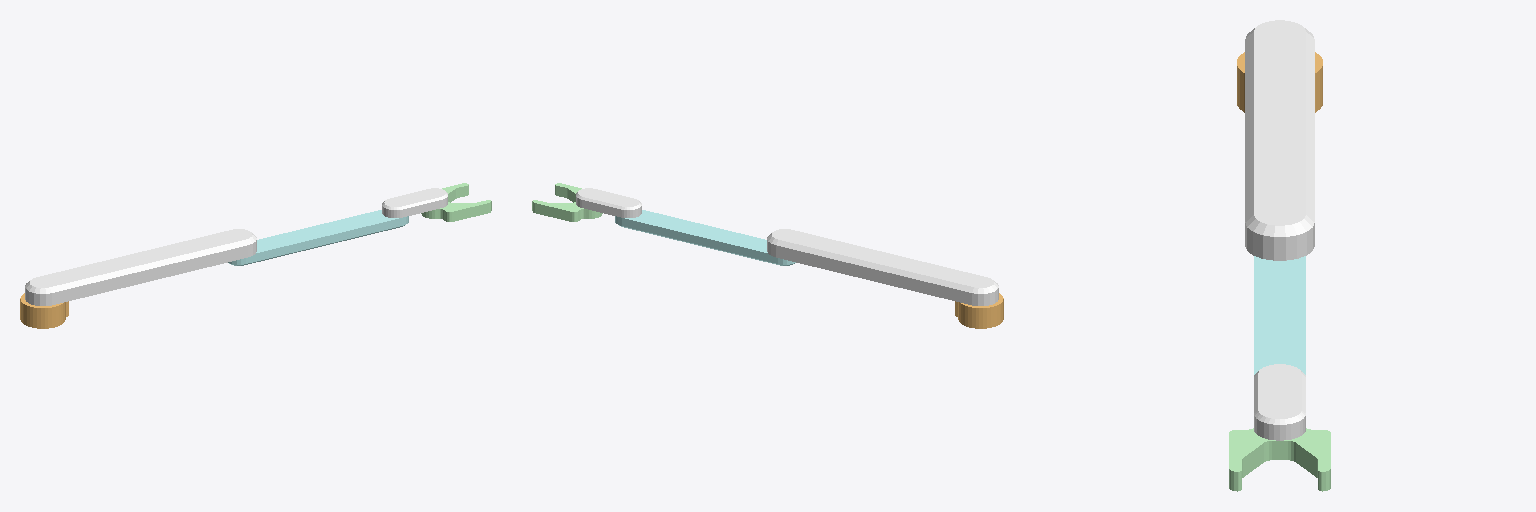
robot.urdf — planar_robot:
<?xml version="1.0" encoding="utf-8"?>
<!-- This URDF was automatically created by SolidWorks to URDF Exporter! Originally created by [author] ([email redacted]) 
     Commit Version: 1.6.0-4-g7f85cfe  Build Version: 1.6.7995.38578
     For more information, please see http://wiki.ros.org/sw_urdf_exporter -->
<robot
  name="planar_robot">
  <link name="dummy_link"/>
  <joint name="joint_dummy" type="fixed">
    <parent link="dummy_link" />
    <child link="base_link" />
  </joint>
  <link
    name="base_link">
    <inertial>
      <origin
        xyz="0.0016724 -0.025 3.5912E-19"
        rpy="0 0 0" />
      <mass
        value="0.40539" />
      <inertia
        ixx="0.00033091"
        ixy="5.152E-21"
        ixz="-6.8519E-21"
        iyy="0.00052707"
        iyz="-7.2766E-22"
        izz="0.00036507" />
    </inertial>
    <visual>
      <origin
        xyz="0 0 0"
        rpy="0 0 0" />
      <geometry>
        <mesh
          filename="package://planar_robot/meshes/base_link.STL" />
      </geometry>
      <material
        name="">
        <color
          rgba="1 0.8 0.5 1" />
      </material>
    </visual>
    <collision>
      <origin
        xyz="0 0 0"
        rpy="0 0 0" />
      <geometry>
        <mesh
          filename="package://planar_robot/meshes/base_link.STL" />
      </geometry>
    </collision>
  </link>
  <link
    name="link_1">
    <inertial>
      <origin
        xyz="0.25 0.019411 -6.9389E-17"
        rpy="0 0 0" />
      <mass
        value="1.7395" />
      <inertia
        ixx="0.0010806"
        ixy="1.6333E-19"
        ixz="9.1886E-18"
        iyy="0.046641"
        iyz="8.3906E-21"
        izz="0.046004" />
    </inertial>
    <visual>
      <origin
        xyz="0 0 0"
        rpy="1.5707963267948966 0 0" />
      <geometry>
        <mesh
          filename="package://planar_robot/meshes/link_1.STL" />
      </geometry>
      <material
        name="">
        <color
          rgba="1 1 1 1" />
      </material>
    </visual>
    <collision>
      <origin
        xyz="0 0 0"
        rpy="1.5707963267948966 0 0" />
      <geometry>
        <mesh
          filename="package://planar_robot/meshes/link_1.STL" />
      </geometry>
    </collision>
  </link>
  <joint
    name="joint_1"
    type="continuous">
    <origin
      xyz="0 0 0"
      rpy="0 0 0" />
    <parent
      link="base_link" />
    <child
      link="link_1" />
    <axis
      xyz="0 0 1" />
    <limit
      lower="-6.28"
      upper="6.28"
      effort="0"
      velocity="0" />
  </joint>
  <link
    name="link_2">
    <inertial>
      <origin
        xyz="0.2 0.012299 -1.6653E-16"
        rpy="0 0 0" />
      <mass
        value="0.65846" />
      <inertia
        ixx="0.00022042"
        ixy="7.022E-20"
        ixz="1.1791E-17"
        iyy="0.011151"
        iyz="7.0855E-21"
        izz="0.010997" />
    </inertial>
    <visual>
      <origin
        xyz="0 0 0"
        rpy="-1.5707963267948966 0 0" />
      <geometry>
        <mesh
          filename="package://planar_robot/meshes/link_2.STL" />
      </geometry>
      <material
        name="">
        <color
          rgba="0.8 1 1 1" />
      </material>
    </visual>
    <collision>
      <origin
        xyz="0 0 0"
        rpy="-1.5707963267948966 0 0" />
      <geometry>
        <mesh
          filename="package://planar_robot/meshes/link_2.STL" />
      </geometry>
    </collision>
  </link>
  <joint
    name="joint_2"
    type="continuous">
    <origin
      xyz="0.5 0 0"
      rpy="0 0 0" />
    <parent
      link="link_1" />
    <child
      link="link_2" />
    <axis
      xyz="0 0 1" />
    <limit
      lower="-6.28"
      upper="6.28"
      effort="0"
      velocity="0" />
  </joint>
  <link
    name="link_3">
    <inertial>
      <origin
        xyz="0.05 -0.012263 0"
        rpy="0 0 0" />
      <mass
        value="0.21596" />
      <inertia
        ixx="6.8918E-05"
        ixy="-3.2388E-21"
        ixz="3.1848E-19"
        iyy="0.00045305"
        iyz="-5.6311E-22"
        izz="0.00040598" />
    </inertial>
    <visual>
      <origin
        xyz="0 0 0"
        rpy="-1.5707963267948966 0 0" />
      <geometry>
        <mesh
          filename="package://planar_robot/meshes/link_3.STL" />
      </geometry>
      <material
        name="">
        <color
          rgba="1 1 1 1" />
      </material>
    </visual>
    <collision>
      <origin
        xyz="0 0 0"
        rpy="-1.5707963267948966 0 0" />
      <geometry>
        <mesh
          filename="package://planar_robot/meshes/link_3.STL" />
      </geometry>
    </collision>
  </link>
  <joint
    name="joint_3"
    type="continuous">
    <origin
      xyz="0.4 0 0"
      rpy="0 0 0" />
    <parent
      link="link_2" />
    <child
      link="link_3" />
    <axis
      xyz="0 0 1" />
    <limit
      lower="-6.28"
      upper="6.28"
      effort="0"
      velocity="0" />
  </joint>
  <link
    name="link_ee">
    <inertial>
      <origin
        xyz="0.031684 0.0125 -2.7756E-17"
        rpy="0 0 0" />
      <mass
        value="0.22207" />
      <inertia
        ixx="0.00032831"
        ixy="5.2816E-21"
        ixz="1.3891E-19"
        iyy="0.00056864"
        iyz="3.089E-21"
        izz="0.00026346" />
    </inertial>
    <visual>
      <origin
        xyz="0 0 0"
        rpy="-1.5707963267948966 0 0" />
      <geometry>
        <mesh
          filename="package://planar_robot/meshes/link_ee.STL" />
      </geometry>
      <material
        name="">
        <color
          rgba="0.8 1 0.8 1" />
      </material>
    </visual>
    <collision>
      <origin
        xyz="0 0 0"
        rpy="-1.5707963267948966 0 0" />
      <geometry>
        <mesh
          filename="package://planar_robot/meshes/link_ee.STL" />
      </geometry>
    </collision>
  </link>
  <joint
    name="joint_ee"
    type="fixed">
    <origin
      xyz="0.1 0 0"
      rpy="0 0 0" />
    <parent
      link="link_3" />
    <child
      link="link_ee" />
    <axis
      xyz="0 0 0" />
  </joint>
</robot>

--- What the picture shows (computed from the rendered views, not written in the file) ---
The picture shows the robot from 3 angles, left to right: view 1: azimuth 30°, elevation 25°; view 2: azimuth 150°, elevation 25°; view 3: azimuth 270°, elevation 25°; orthographic projection.
Robot: planar_robot — 6 links, 5 joints (3 continuous, 2 fixed); root link dummy_link; default pose: every joint at zero.
Links seen in each view (by area): view 1: link_1, link_2, link_3, link_ee, base_link; view 2: link_1, link_2, link_3, link_ee, base_link; view 3: link_1, link_2, link_ee, link_3, base_link.
Link boxes in pixels (x1=…): link_1: x1=25, y1=229, x2=256, y2=305; link_2: x1=228, y1=210, x2=408, y2=265; link_3: x1=382, y1=188, x2=447, y2=217; link_ee: x1=421, y1=183, x2=491, y2=221; base_link: x1=20, y1=293, x2=68, y2=328; link_1: x1=767, y1=229, x2=998, y2=305; link_2: x1=615, y1=210, x2=795, y2=265; link_3: x1=576, y1=188, x2=641, y2=217; link_ee: x1=532, y1=183, x2=602, y2=221; base_link: x1=955, y1=293, x2=1003, y2=328; link_1: x1=1245, y1=20, x2=1314, y2=260; link_2: x1=1254, y1=256, x2=1305, y2=374; link_ee: x1=1229, y1=428, x2=1330, y2=491; link_3: x1=1254, y1=364, x2=1305, y2=440; base_link: x1=1237, y1=52, x2=1322, y2=112.
Size in the robot's own frame: 1.16 by 0.1177 by 0.09 metres.
5 mesh visuals loaded from 5 distinct referenced files (5 binary STL).
